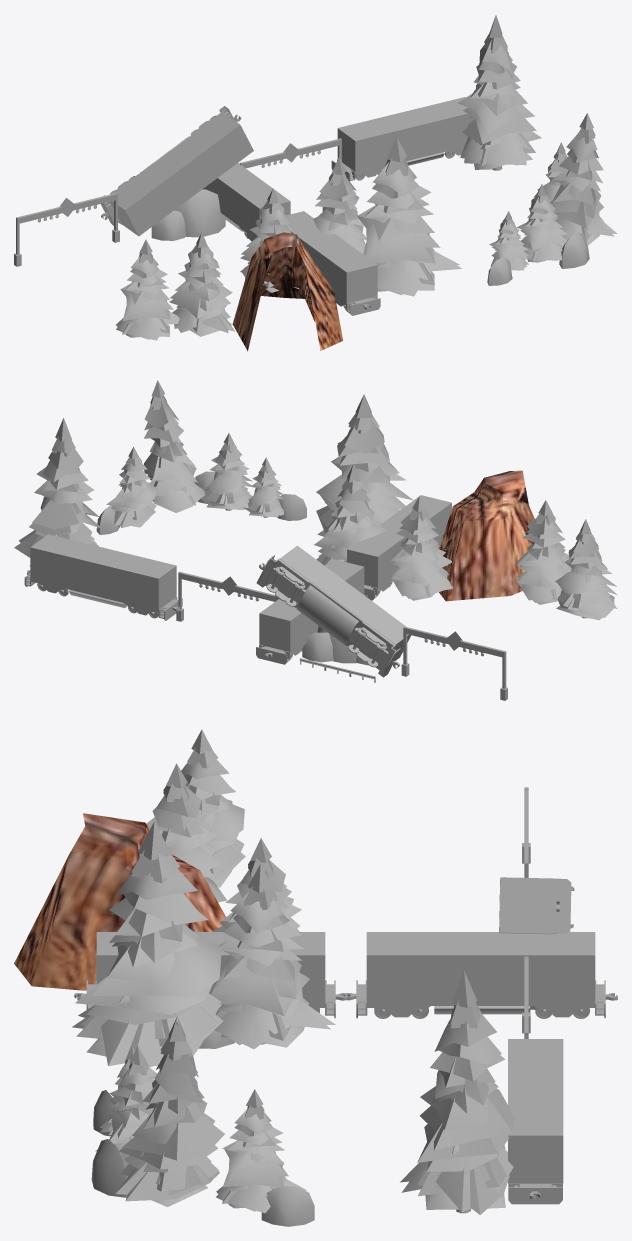
File: Zone_04.fbx
The picture shows the model from 3 angles, top to bottom: view 1: azimuth 30°, elevation 25°; view 2: azimuth 150°, elevation 25°; view 3: azimuth 270°, elevation 25°; orthographic projection. The views are drawn at different scales.
Visible parts, largest first — view 1: polymsh69; view 2: polymsh69; view 3: polymsh69.
Boxes of the visible parts, x1,y1,x2,y2 form: polymsh69: [14, 15, 617, 351]; polymsh69: [14, 380, 617, 700]; polymsh69: [14, 729, 617, 1226].
Size of the model in its own units: 52.61 by 15.57 by 34.93.
